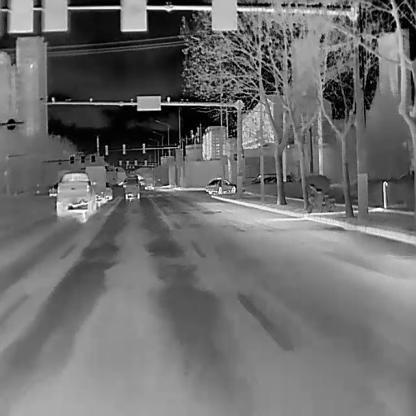car: (55, 171, 96, 221), (203, 176, 236, 194), (251, 172, 287, 184), (123, 175, 139, 200), (143, 176, 154, 190)
truck: (84, 165, 104, 205)
